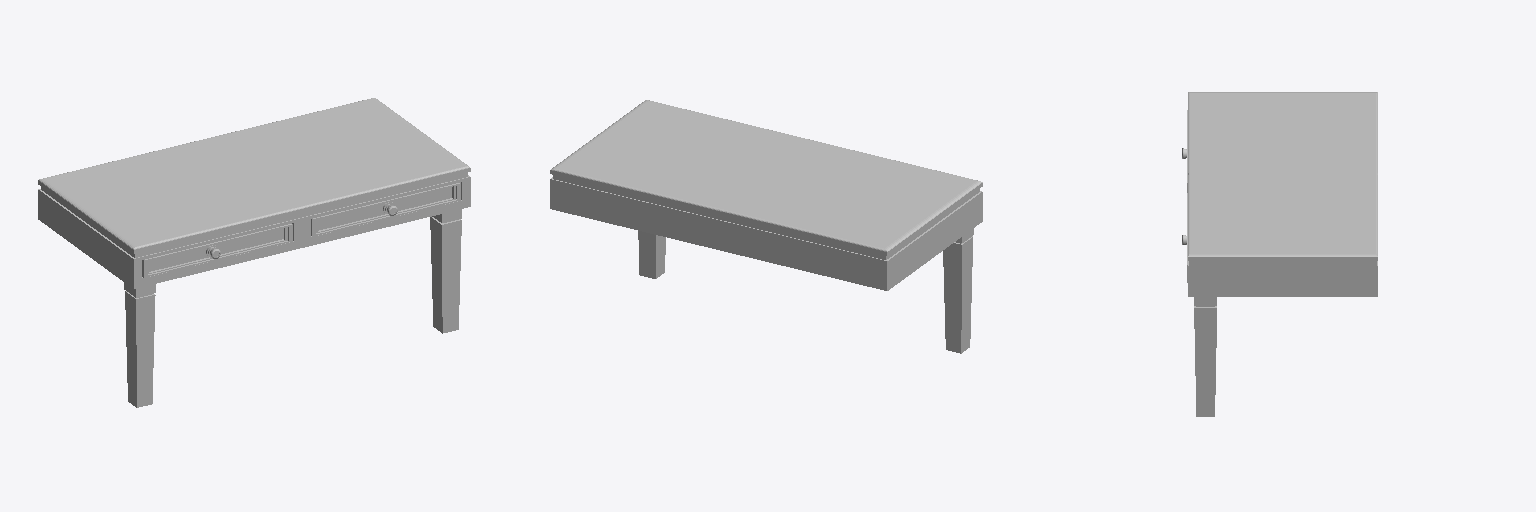
File: desk.obj
3 renders of one model, left to right at view 1: azimuth 30°, elevation 25°; view 2: azimuth 150°, elevation 25°; view 3: azimuth 270°, elevation 25°, orthographic.
Visible parts, largest first — view 1: Cube; view 2: Cube; view 3: Cube.
Boxes of the visible parts, box(x1,y1,x2,y2) form: Cube: box(38, 98, 470, 407); Cube: box(550, 100, 982, 353); Cube: box(1182, 92, 1377, 416).
Size of the model in its own units: 5.72 by 2.67 by 2.88.